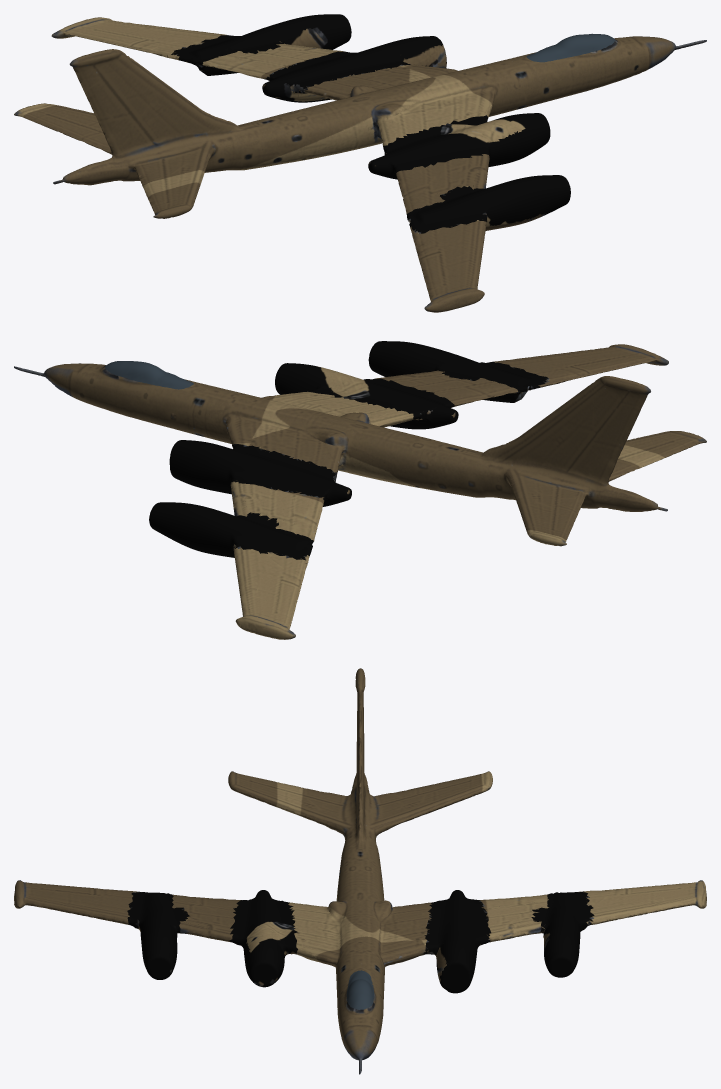
Rendered from fh_hangar_bomber_1.glb.
3 views of the same model, one above another, from view 1: azimuth 30°, elevation 25°; view 2: azimuth 150°, elevation 25°; view 3: azimuth 270°, elevation 25° (orthographic). The views are drawn at different scales.
Parts seen in each view (by area): view 1: fh_hangar_bomber_1, flap_r, flap_l; view 2: fh_hangar_bomber_1, flap_l, flap_r, slat_l2; view 3: fh_hangar_bomber_1, slat_l2, slat_r2.
Boxes of the visible parts, box(x1,y1,x2,y2) form: fh_hangar_bomber_1: box(14, 14, 706, 312); flap_r: box(399, 175, 443, 213); flap_l: box(202, 51, 270, 75); fh_hangar_bomber_1: box(14, 341, 706, 639); flap_l: box(277, 503, 321, 540); flap_r: box(450, 378, 517, 402); slat_l2: box(236, 563, 249, 614); fh_hangar_bomber_1: box(14, 668, 706, 1074); slat_l2: box(616, 898, 692, 919); slat_r2: box(28, 898, 104, 919).
Bounding box in the file's own units: 0.9975 × 0.2415 × 1.
3 materials, 1 textured.
